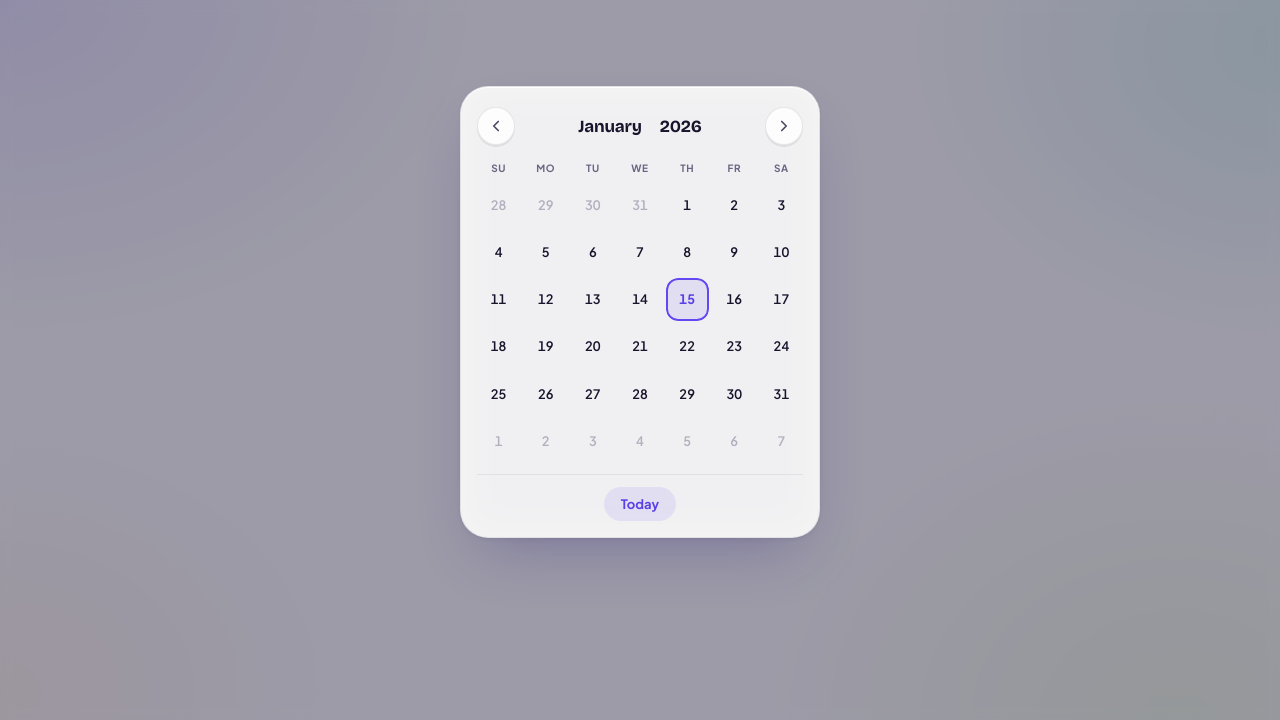
CalendarPicker › crosses into the previous year
Step 1. Click the button named "Previous month" → [496, 126], box top-left (477, 107), bottom-right (515, 145)
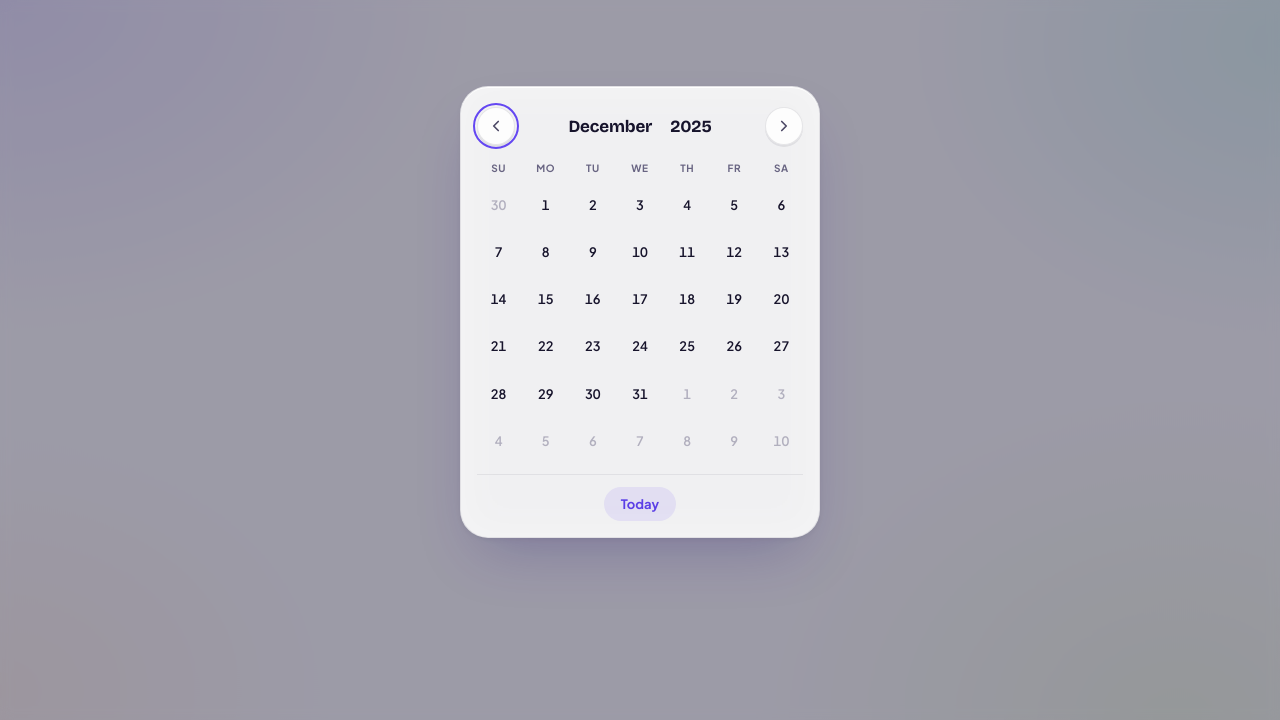
Check: the button with aria-label "December, choose month" is shown, box top-left (560, 112), bottom-right (660, 141)
Check: the button named "2025, choose year" is shown, box top-left (662, 112), bottom-right (720, 141)
